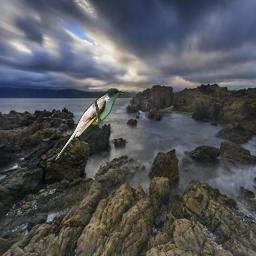Cuckoo: (54, 88, 123, 161)
